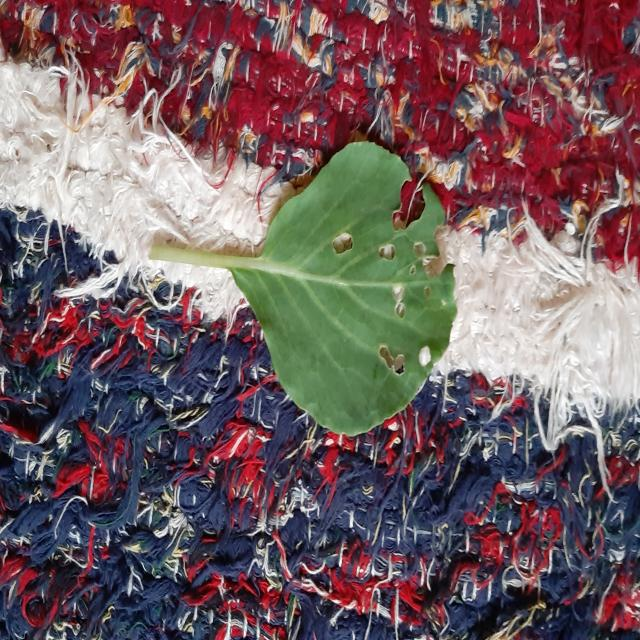Kohlrabi: (215, 142, 456, 436)
